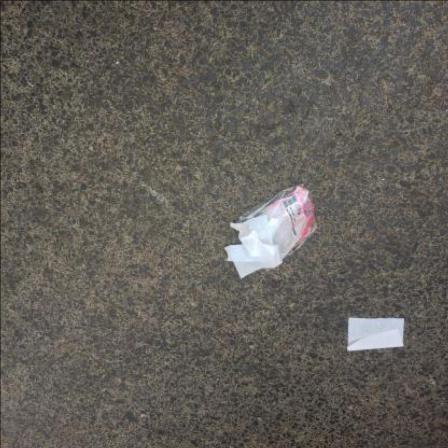Paper: (225, 222, 283, 279), (347, 319, 405, 353)
Plastic bag - wrapper: (237, 185, 318, 262)
